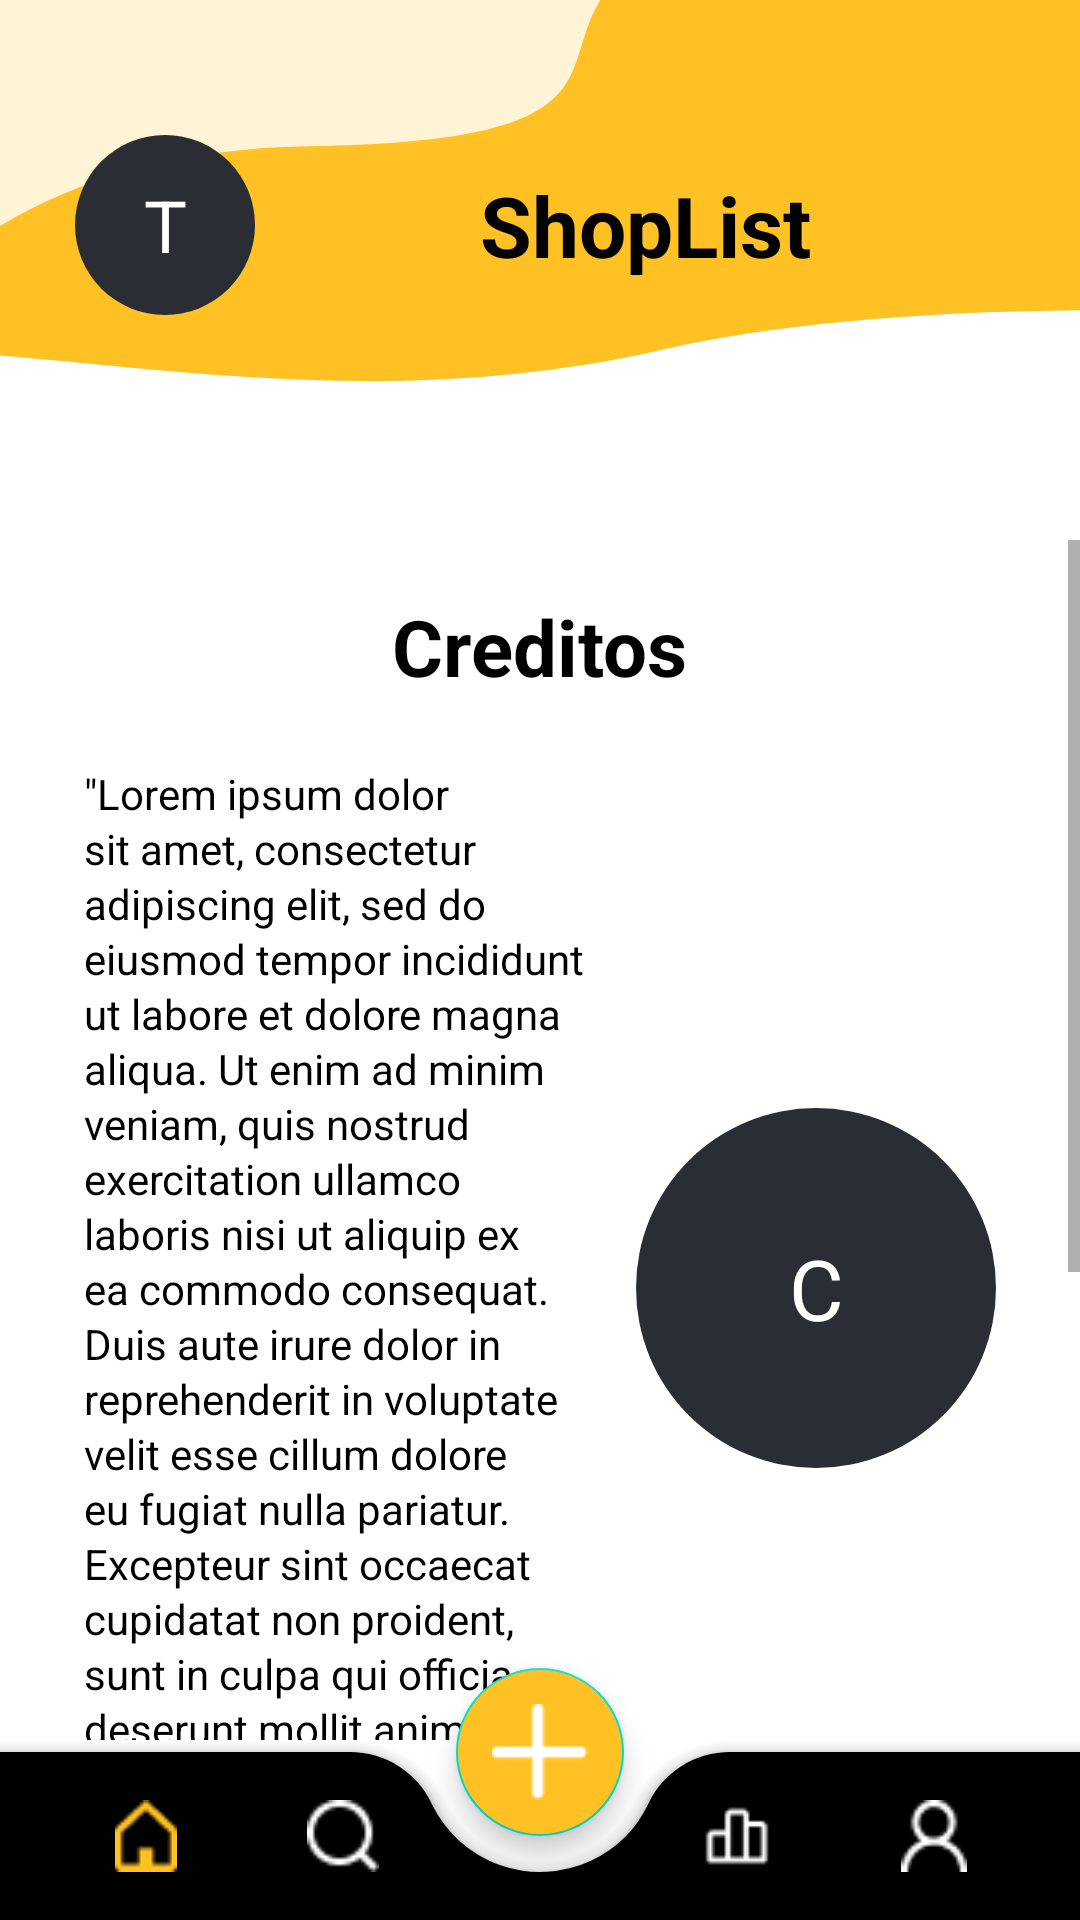

Icon bounding boxes for this 1080 x 1920 phone screenshot, format (x1=x1, y1=y1, x2=x2, y2=y2):
create list: (x1=456, y1=1668, x2=624, y2=1836)
